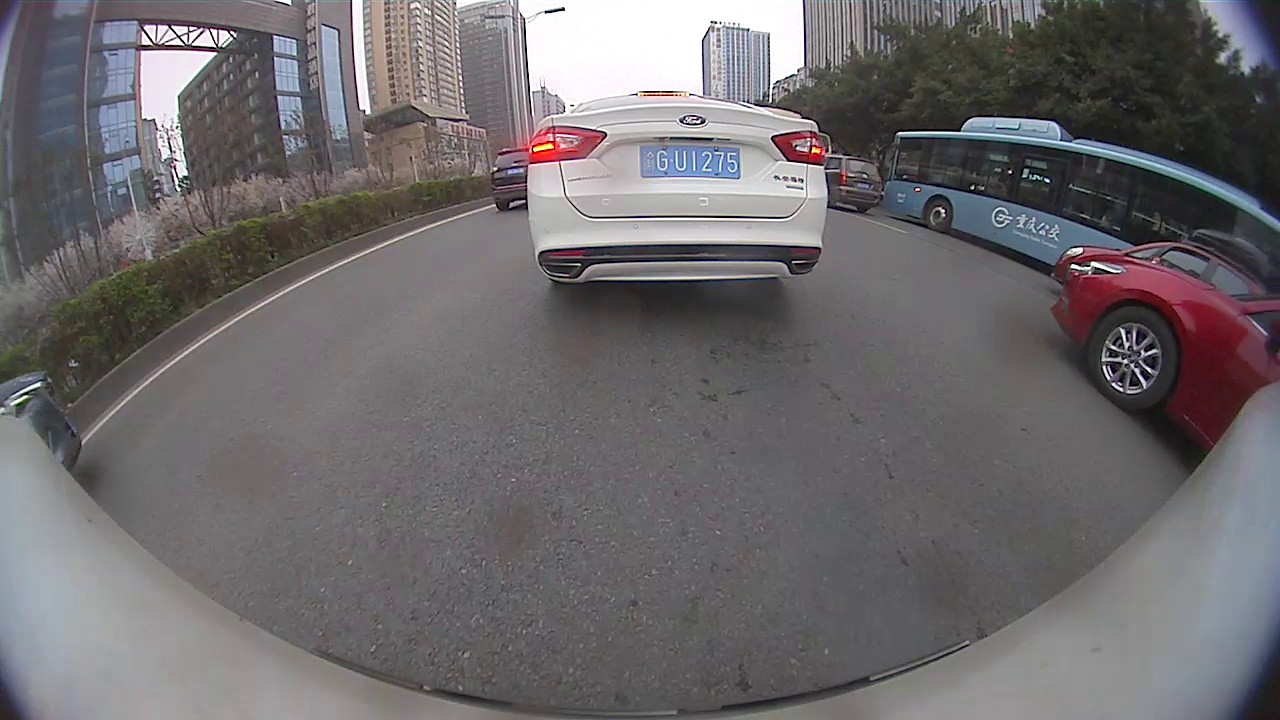bus: (882, 113, 1279, 268)
car: (529, 90, 828, 286), (1052, 259, 1279, 452), (1051, 240, 1278, 297), (0, 371, 81, 478), (829, 154, 882, 214), (491, 145, 529, 209)
front: (1085, 306, 1179, 415), (923, 198, 954, 233)
